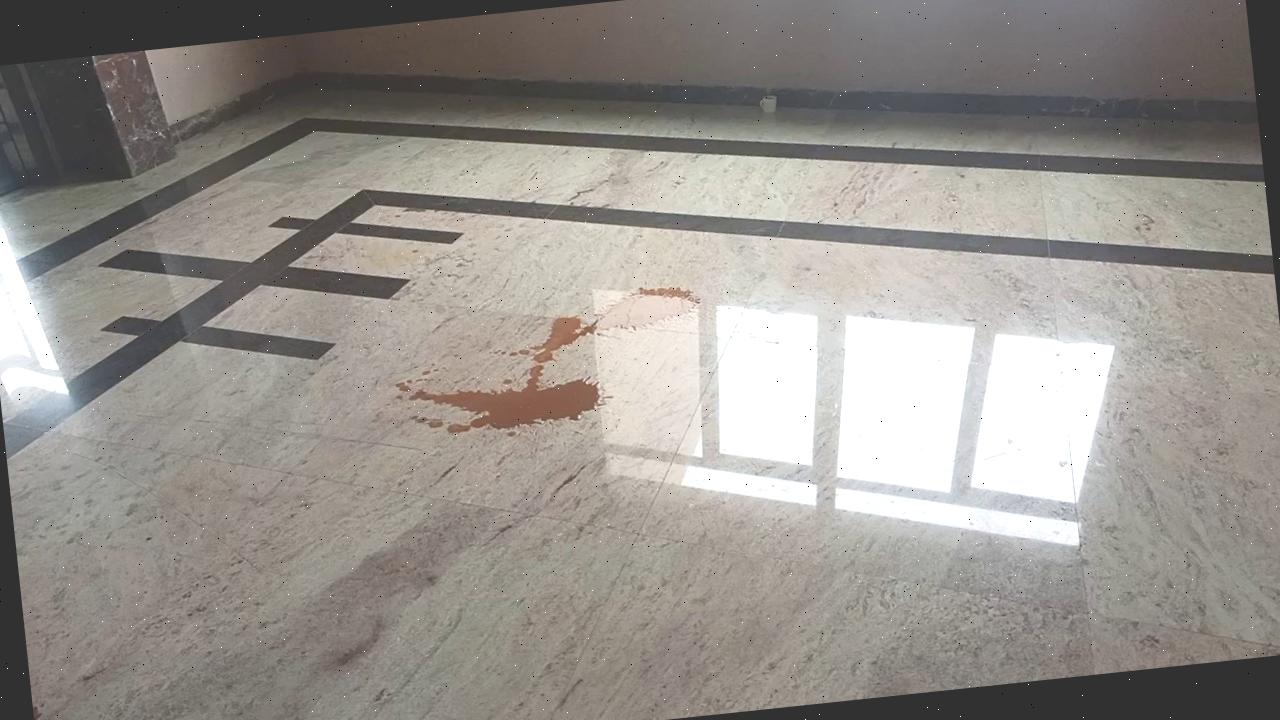dirty_floor: (392, 275, 717, 444)
